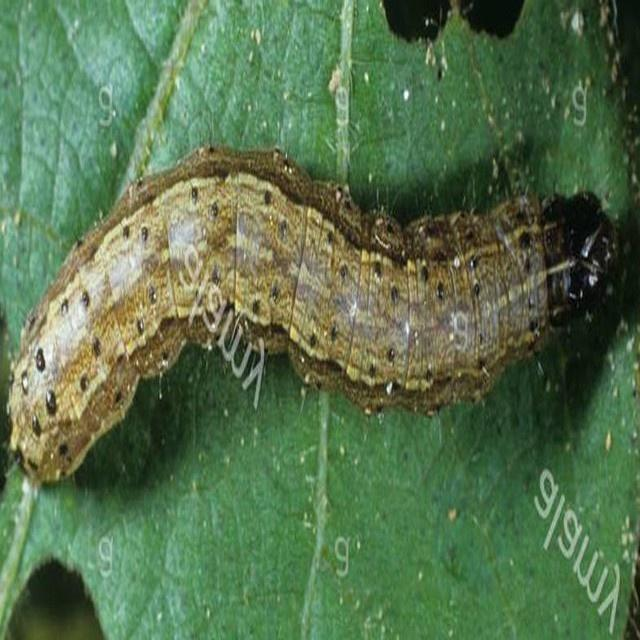gusano_cogollero: (15, 143, 618, 485)
